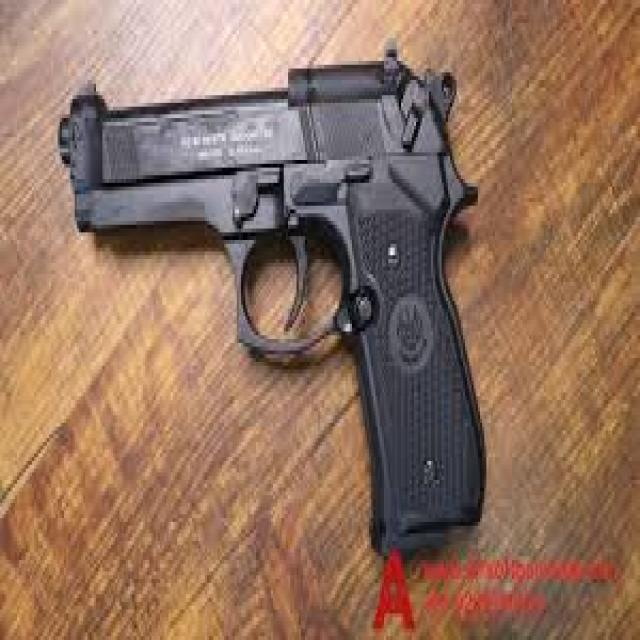Gun: (38, 9, 504, 586)
